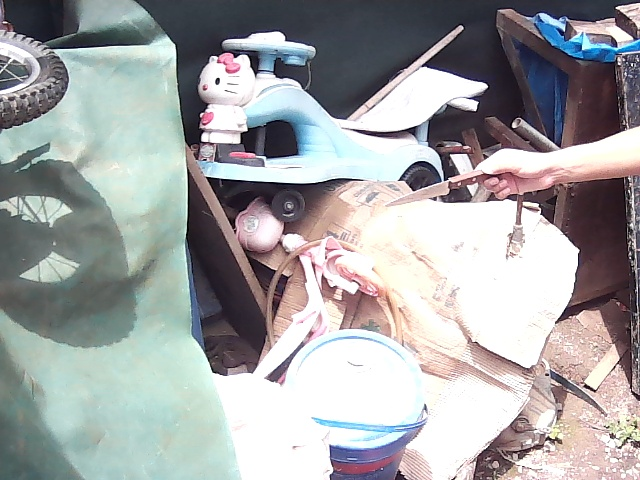cuchillo: (381, 173, 474, 209)
